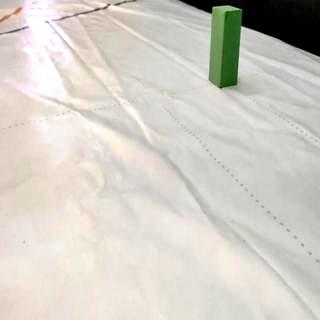greenbox: (208, 5, 242, 90)
